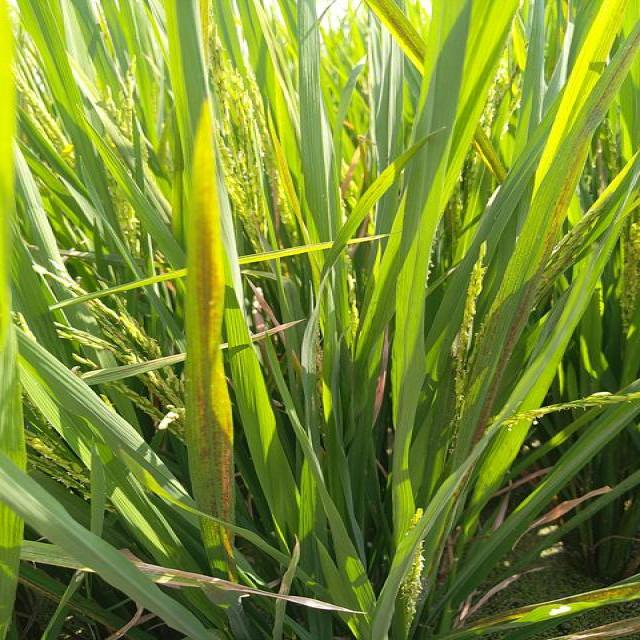Leaf Streak: (467, 164, 585, 454), (184, 88, 233, 525)
